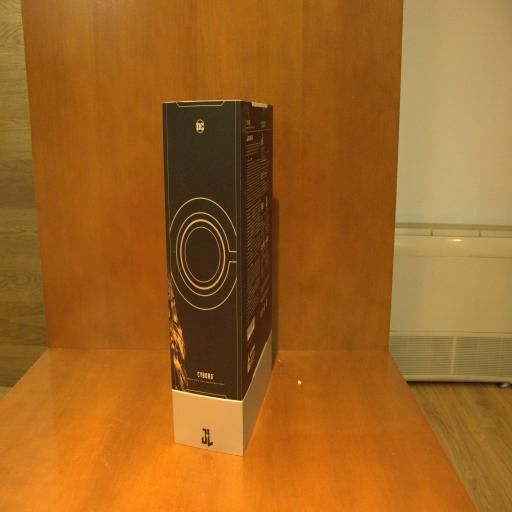Cyborg: (162, 99, 276, 453)
